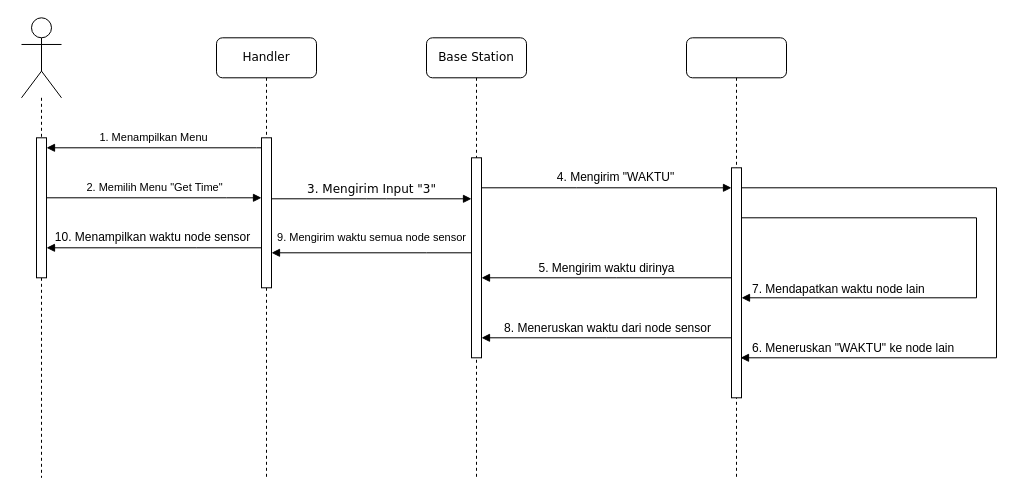
Image size: 1022x496. Some labels were removed from this diagram. The shapes that lost their labels are listed below. From the top down, each one's box as (x1, y1, x2, y2) in pixels, then its label:
(20, 17, 62, 98): Penguna
(686, 37, 786, 478): Node Sensor
